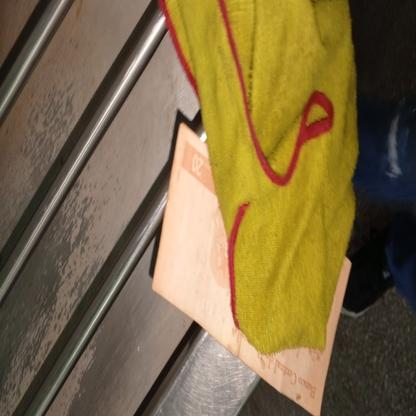twenty-back-vef: (150, 122, 352, 416)
